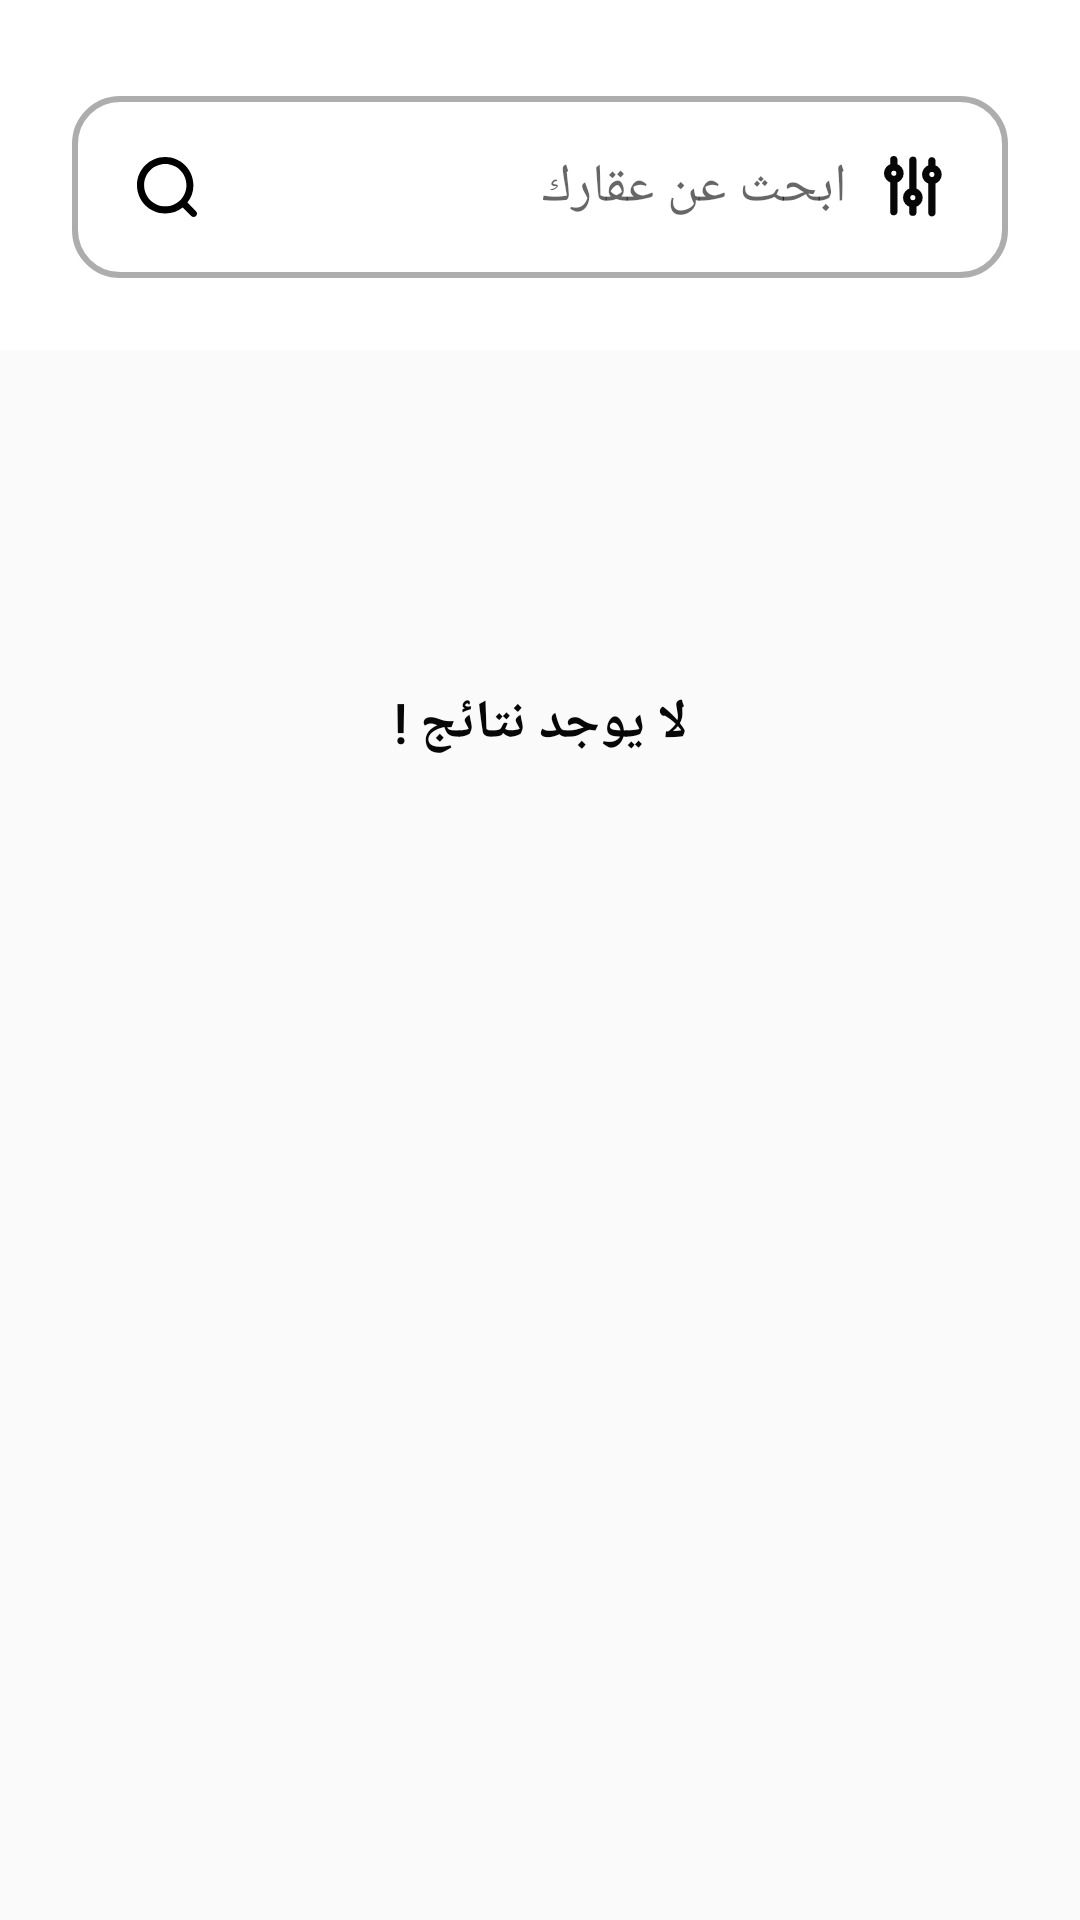

Icons on this 1080x1920 Android screen, each with the point to tap as point (x, y):
filter: point (913, 186)
search: point (167, 187)
